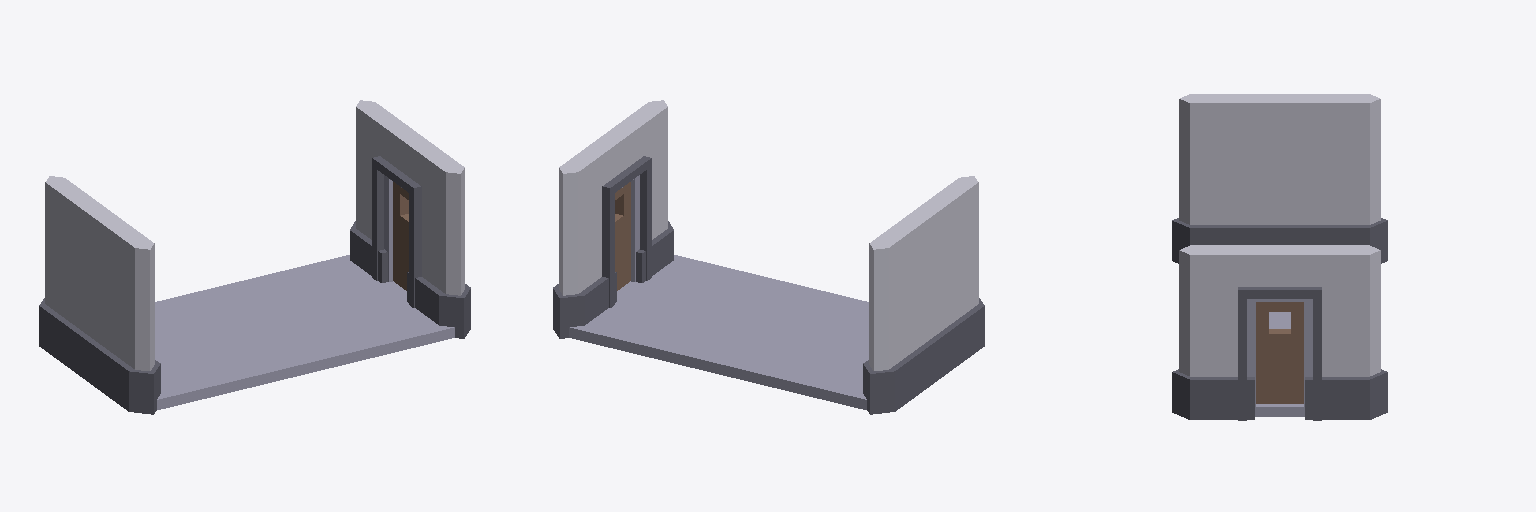
The model's file is hallway_short_09.obj.
3 renders of one model, left to right at view 1: azimuth 30°, elevation 25°; view 2: azimuth 150°, elevation 25°; view 3: azimuth 270°, elevation 25°, orthographic.
Parts seen in each view (by area): view 1: floor_04_108, wall_01_110, door_02_107; view 2: floor_04_108, wall_01_110, door_02_107; view 3: door_02_107, wall_01_110, floor_04_108.
Boxes of the visible parts, x1,y1,x2,y2 form: floor_04_108: [155, 255, 454, 409]; wall_01_110: [39, 176, 160, 414]; door_02_107: [350, 100, 470, 338]; floor_04_108: [569, 255, 868, 409]; wall_01_110: [863, 176, 984, 414]; door_02_107: [553, 100, 673, 338]; door_02_107: [1172, 245, 1387, 420]; wall_01_110: [1172, 94, 1387, 263]; floor_04_108: [1256, 312, 1303, 409].
Bounding box in the file's own units: 2.21 × 1 × 1.21.